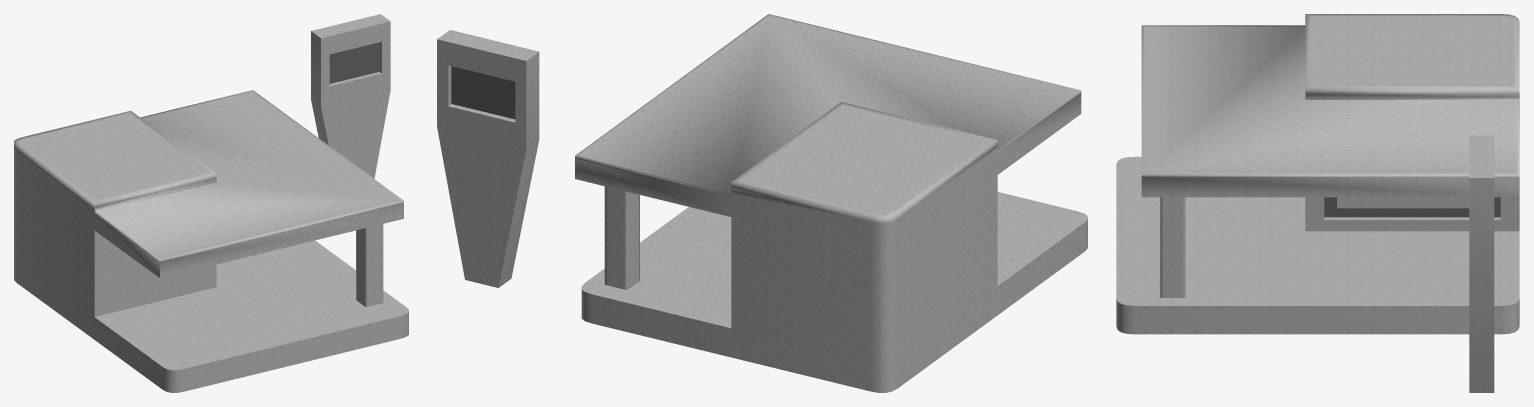
The model's file is fuelstation.fbx.
3 views of the same model, side by side, from view 1: azimuth 30°, elevation 25°; view 2: azimuth 150°, elevation 25°; view 3: azimuth 270°, elevation 25° (orthographic). The views are drawn at different scales.
Visible parts, largest first — view 1: mesh_44; view 2: mesh_44; view 3: mesh_44.
Part boxes in pixels (<box>): mesh_44: <box>14,14,408,392</box>; mesh_44: <box>437,14,1087,392</box>; mesh_44: <box>1116,14,1519,392</box>.
Bounding box in the file's own units: 1328 × 640 × 1024.
Materials: 2 (1 with a texture image).
